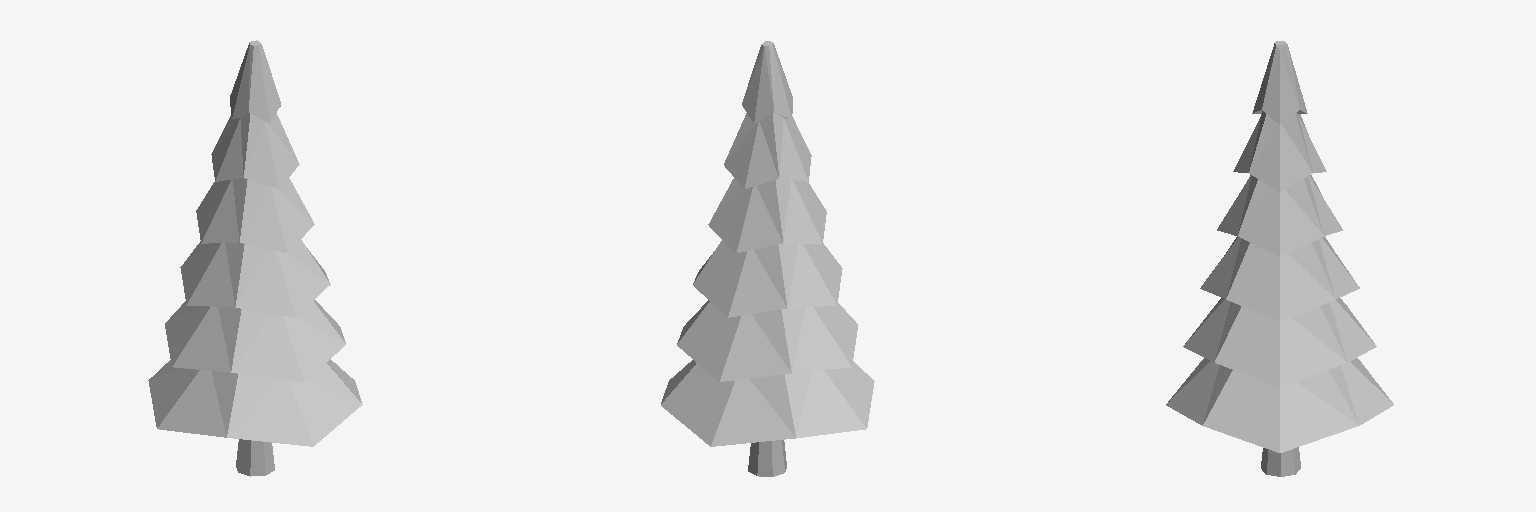
File: tree_pine.obj
The picture shows the model from 3 angles: view 1: azimuth 30°, elevation 25°; view 2: azimuth 150°, elevation 25°; view 3: azimuth 270°, elevation 25°; orthographic projection.
Parts seen in each view (by area): view 1: Cylinder_Cylinder.001, Cylinder.001_Cylinder.002; view 2: Cylinder_Cylinder.001, Cylinder.001_Cylinder.002; view 3: Cylinder_Cylinder.001, Cylinder.001_Cylinder.002.
Boxes of the visible parts, x1=… form: Cylinder_Cylinder.001: x1=148, y1=40, x2=362, y2=446; Cylinder.001_Cylinder.002: x1=236, y1=439, x2=274, y2=476; Cylinder_Cylinder.001: x1=661, y1=41, x2=874, y2=446; Cylinder.001_Cylinder.002: x1=748, y1=440, x2=786, y2=476; Cylinder_Cylinder.001: x1=1166, y1=41, x2=1393, y2=452; Cylinder.001_Cylinder.002: x1=1261, y1=447, x2=1300, y2=476.
Bounding box in the file's own units: 3.68 × 7.54 × 3.68.